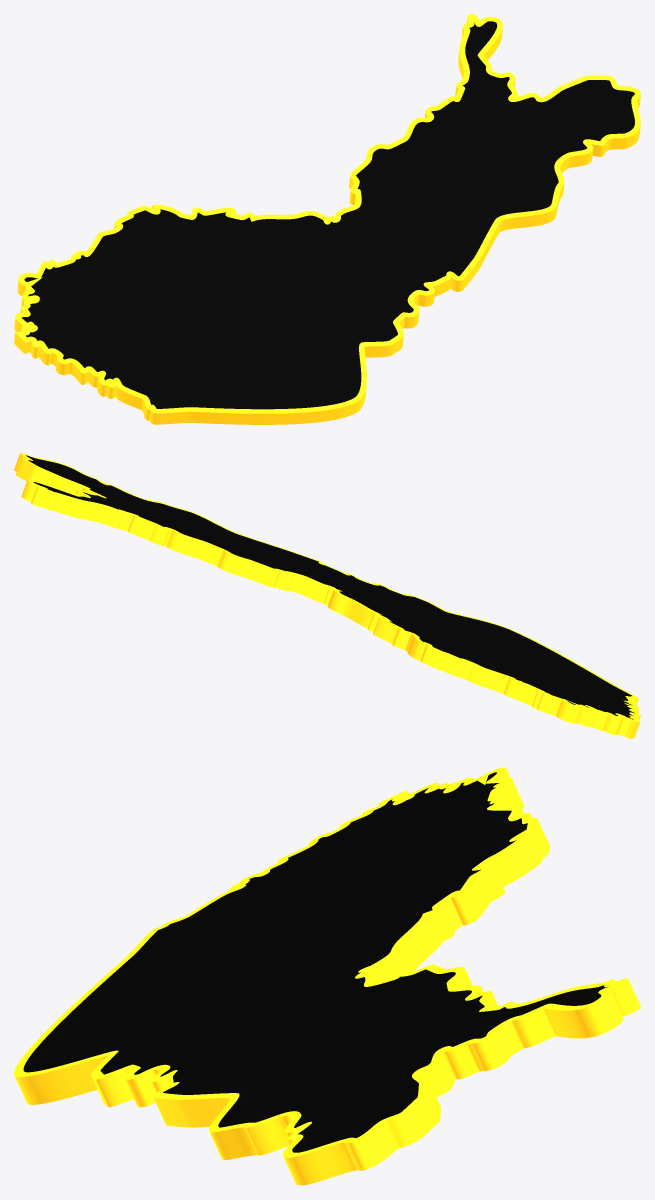
3 views of the same model, one above another, from view 1: azimuth 30°, elevation 25°; view 2: azimuth 150°, elevation 25°; view 3: azimuth 270°, elevation 25° (orthographic). The views are drawn at different scales.
Visible parts, largest first — view 1: mesh_1, mesh_2; view 2: mesh_1, mesh_2; view 3: mesh_1, mesh_2.
Part boxes in pixels (box(x1,y1,x2,y2)): mesh_1: box(21, 21, 634, 409); mesh_2: box(14, 14, 640, 424); mesh_1: box(26, 455, 634, 719); mesh_2: box(14, 453, 640, 738); mesh_1: box(23, 780, 607, 1152); mesh_2: box(14, 767, 640, 1185).
Bounding box in the file's own units: 4.85 × 1.59 × 2.4.
